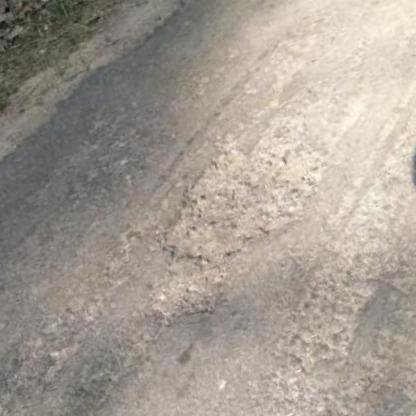pothole: (128, 112, 342, 282), (144, 258, 243, 336)
